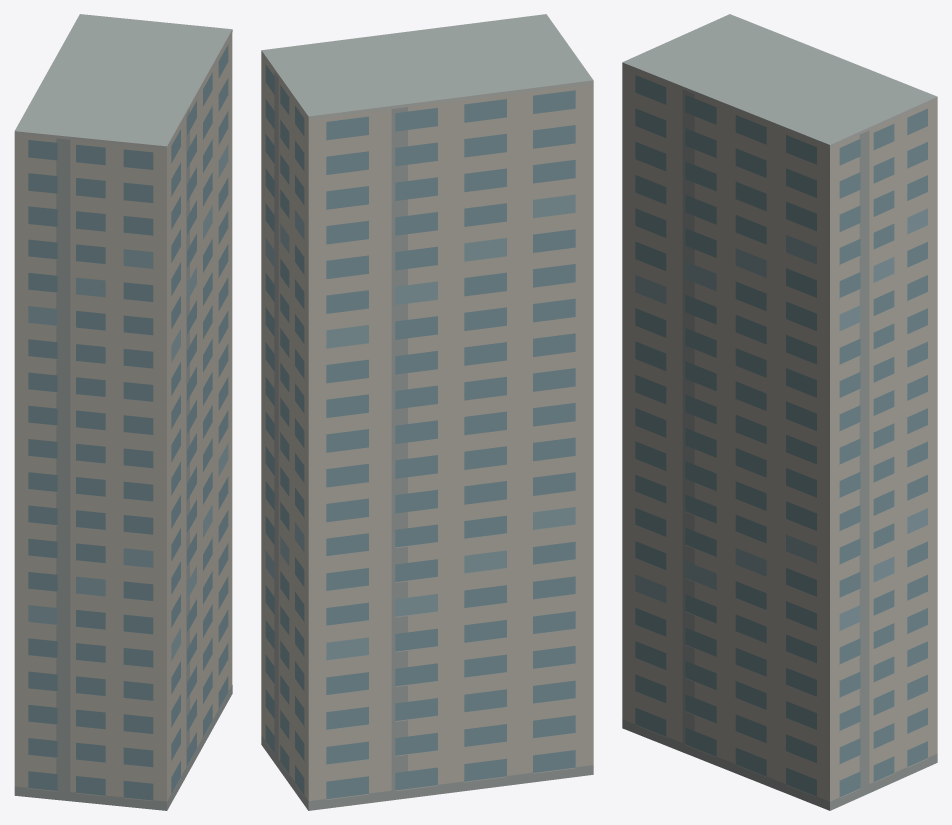
Rendered from residential-95596678-6252-4c8f-ad16-840388f6d8d3.glb.
3 views of the same model, side by side, from view 1: azimuth 30°, elevation 25°; view 2: azimuth 150°, elevation 25°; view 3: azimuth 270°, elevation 25° (orthographic). The views are drawn at different scales.
Visible parts, largest first — view 1: residential-95596678-6252-4c8f-ad16-840388f6d8d3.tmp; view 2: residential-95596678-6252-4c8f-ad16-840388f6d8d3.tmp; view 3: residential-95596678-6252-4c8f-ad16-840388f6d8d3.tmp.
Part boxes in pixels (x1,y1,x2,y2): residential-95596678-6252-4c8f-ad16-840388f6d8d3.tmp: (14,14,232,810); residential-95596678-6252-4c8f-ad16-840388f6d8d3.tmp: (261,14,593,810); residential-95596678-6252-4c8f-ad16-840388f6d8d3.tmp: (622,14,937,810).
Bounding box in the file's own units: 22.79 × 54 × 23.2.
